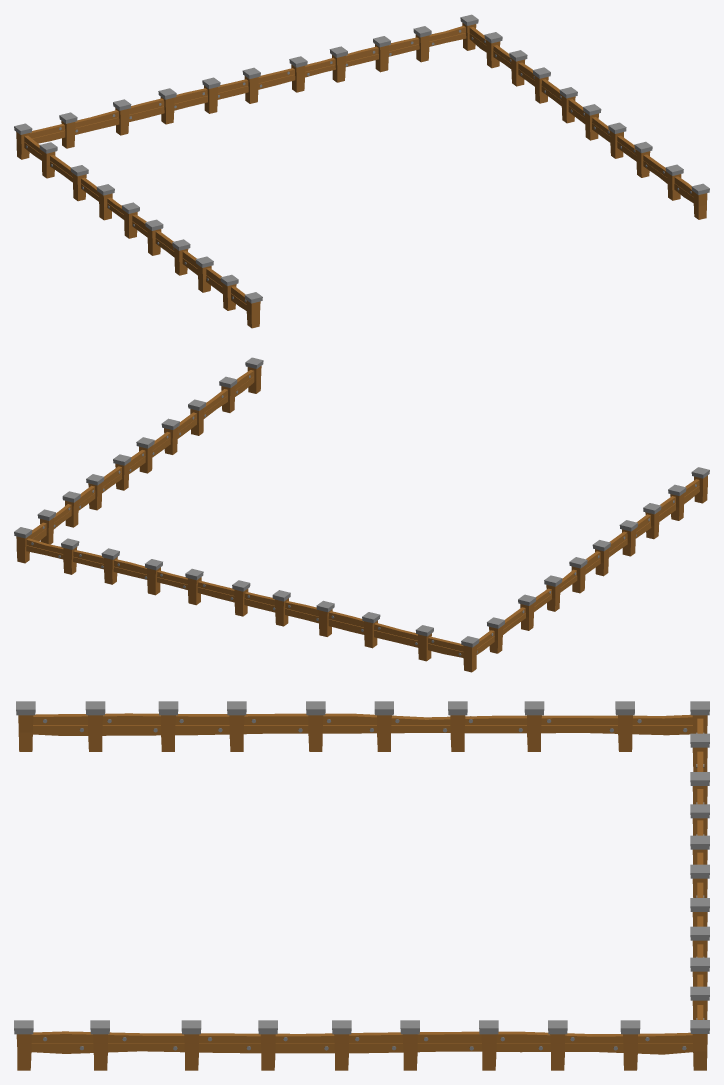
File: fence004.fbx
3 views of the same model, one above another, from view 1: azimuth 30°, elevation 25°; view 2: azimuth 150°, elevation 25°; view 3: azimuth 270°, elevation 25° (orthographic). The views are drawn at different scales.
Parts seen in each view (by area): view 1: fence001; view 2: fence001; view 3: fence001.
Boxes of the visible parts, x1,y1,x2,y2 form: fence001: [14, 14, 709, 328]; fence001: [14, 357, 709, 672]; fence001: [14, 701, 709, 1070].
Bounding box in the file's own units: 4808 × 300 × 4321.
